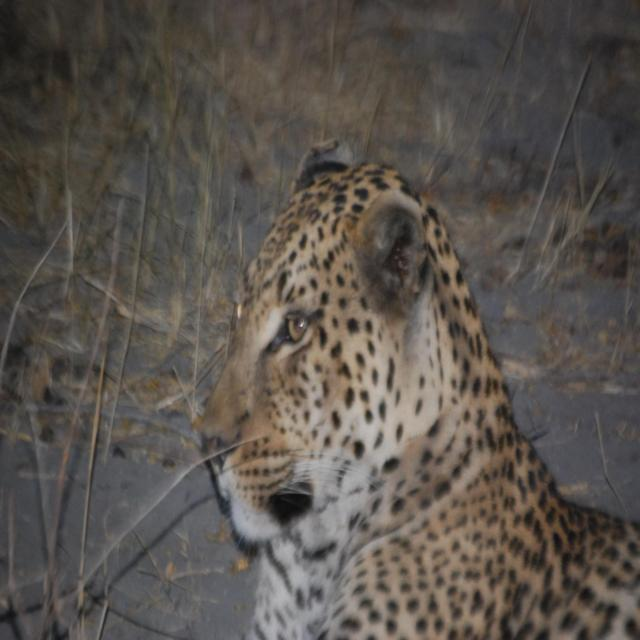Leopard: (182, 124, 638, 640)
